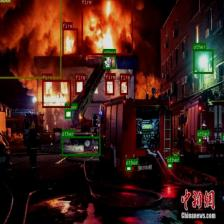fire: (82, 0, 132, 54), (42, 79, 71, 108), (62, 28, 78, 56), (105, 79, 114, 95), (75, 80, 84, 94), (120, 80, 128, 94)
smoke: (0, 0, 61, 78)
